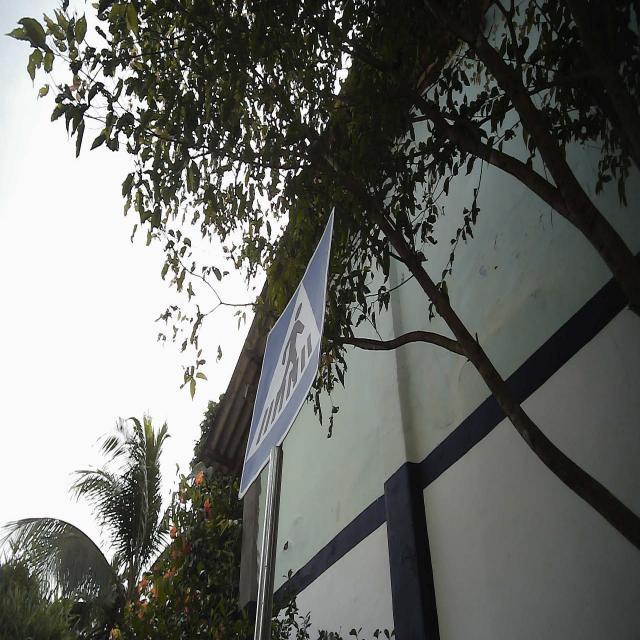crosswalk_sign: (236, 204, 336, 503)
